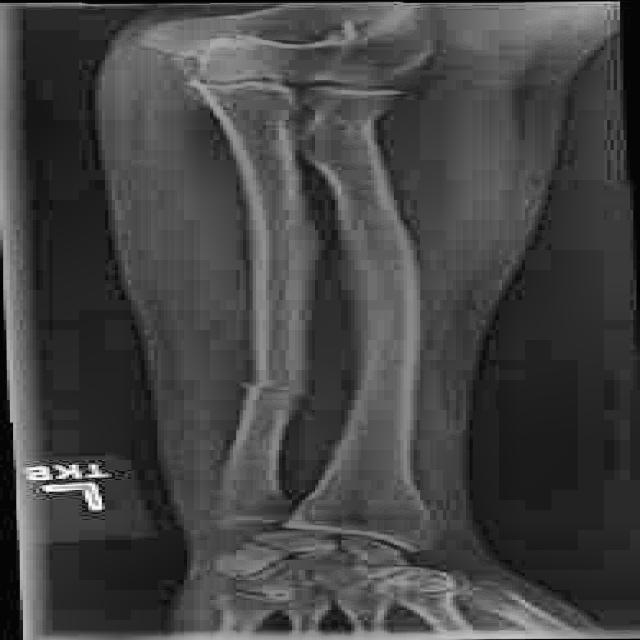forearm fracture: (178, 356, 354, 431)
